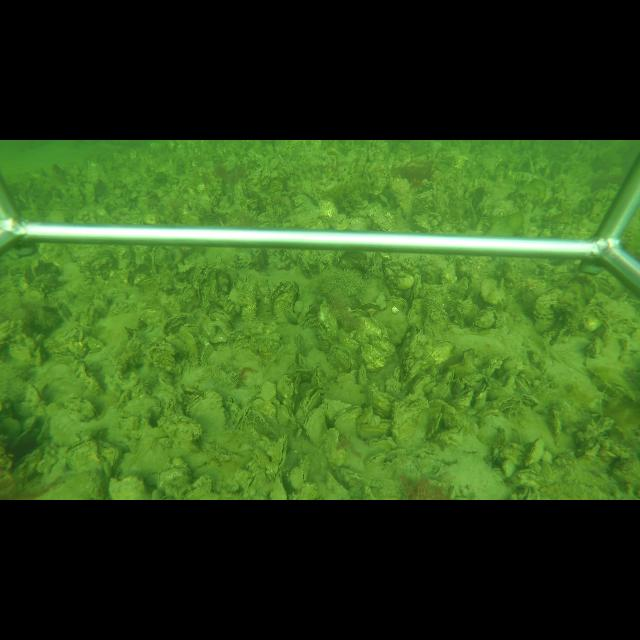Oyster-Closed: (391, 396, 442, 448), (184, 390, 228, 429), (144, 340, 182, 377), (65, 438, 102, 471), (400, 322, 423, 371), (272, 280, 299, 319), (232, 393, 257, 434), (367, 382, 395, 418), (304, 406, 326, 448), (157, 462, 193, 487), (446, 384, 474, 416), (326, 399, 359, 426), (406, 272, 422, 326), (270, 434, 289, 476), (334, 405, 362, 432), (326, 346, 354, 373), (431, 340, 454, 371), (315, 322, 334, 352), (207, 307, 234, 328), (285, 374, 301, 408), (525, 437, 543, 467), (311, 364, 329, 392), (200, 342, 216, 368), (367, 437, 395, 450), (413, 375, 434, 391), (356, 364, 369, 387), (353, 301, 380, 310)
Oyster-Open: (300, 386, 323, 415), (517, 374, 535, 394)
